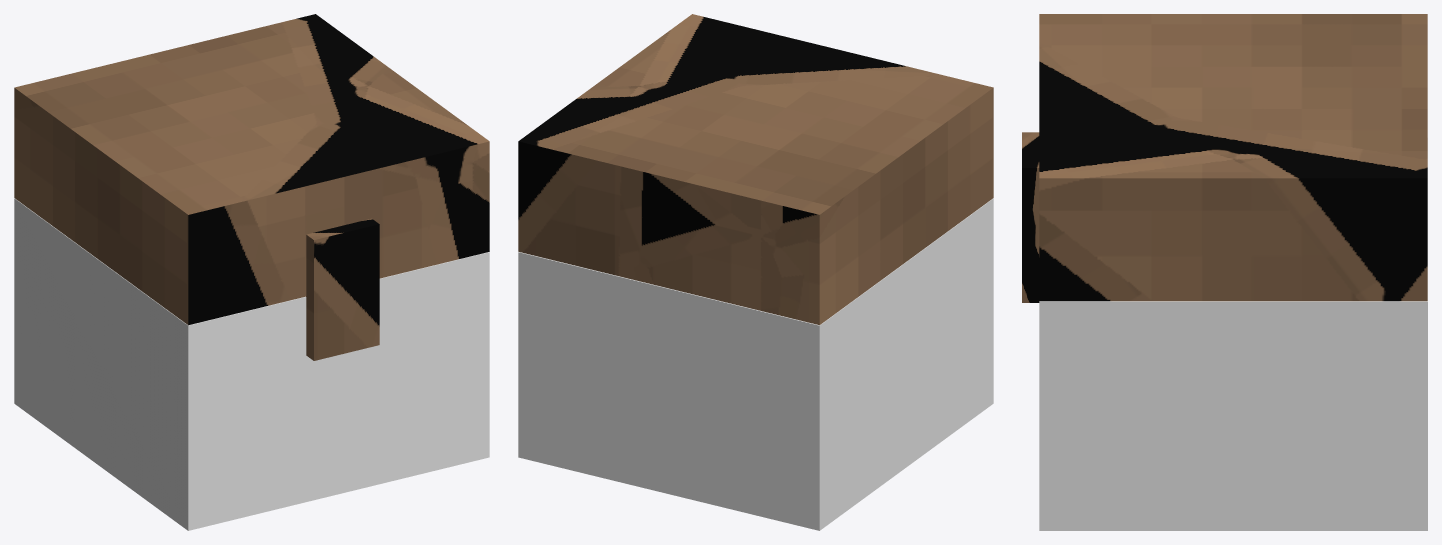
The model's file is chest.glb.
The picture shows the model from 3 angles, left to right: view 1: azimuth 30°, elevation 25°; view 2: azimuth 150°, elevation 25°; view 3: azimuth 270°, elevation 25°; orthographic projection. The views are drawn at different scales.
Visible parts, largest first — view 1: Cube.001, Cube, Cube.002; view 2: Cube.001, Cube; view 3: Cube.001, Cube, Cube.002.
Boxes of the visible parts, x1=… form: Cube.001: x1=14, y1=14, x2=489, y2=325; Cube: x1=14, y1=198, x2=489, y2=530; Cube.002: x1=306, y1=218, x2=379, y2=360; Cube.001: x1=518, y1=14, x2=993, y2=325; Cube: x1=518, y1=198, x2=993, y2=530; Cube.001: x1=1039, y1=14, x2=1427, y2=301; Cube: x1=1039, y1=138, x2=1427, y2=530; Cube.002: x1=1022, y1=132, x2=1039, y2=302.
Size of the model in its own units: 2 by 2 by 2.09.
Materials: 4 (2 with a texture image).
